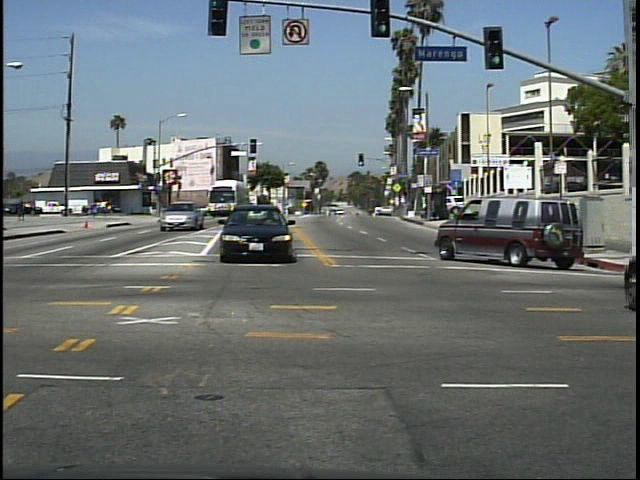person: (14, 196, 31, 225)
